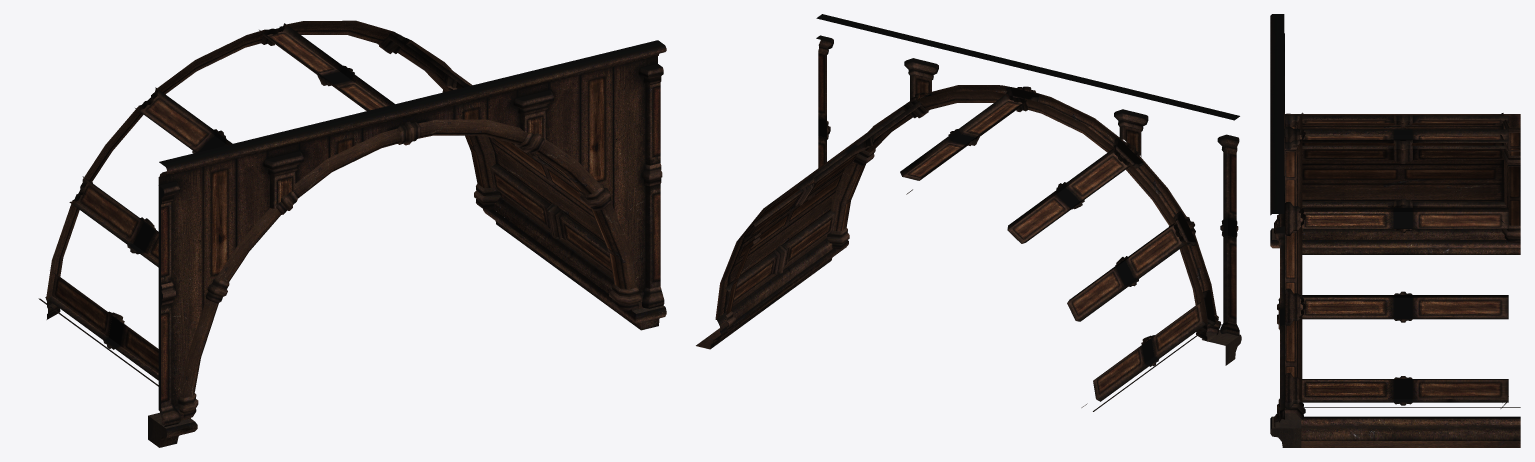
Rendered from default02_arch.DAE.
3 renders of one model, left to right at view 1: azimuth 30°, elevation 25°; view 2: azimuth 150°, elevation 25°; view 3: azimuth 270°, elevation 25°, orthographic. The views are drawn at different scales.
Visible parts, largest first — view 1: default022; view 2: default022; view 3: default022.
Part boxes in pixels (x1=…): default022: x1=38, y1=20, x2=666, y2=447; default022: x1=696, y1=14, x2=1241, y2=411; default022: x1=1270, y1=14, x2=1520, y2=447.
Size of the model in its own units: 8 by 4.37 by 4.23.
